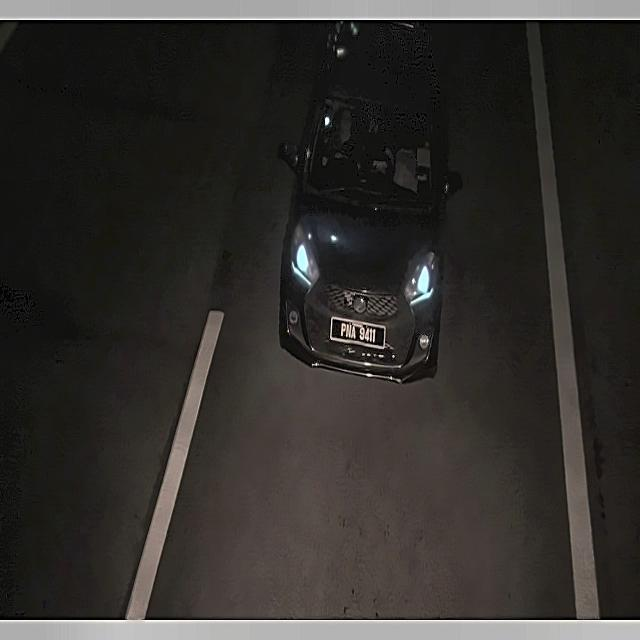car: (328, 309, 390, 355)
